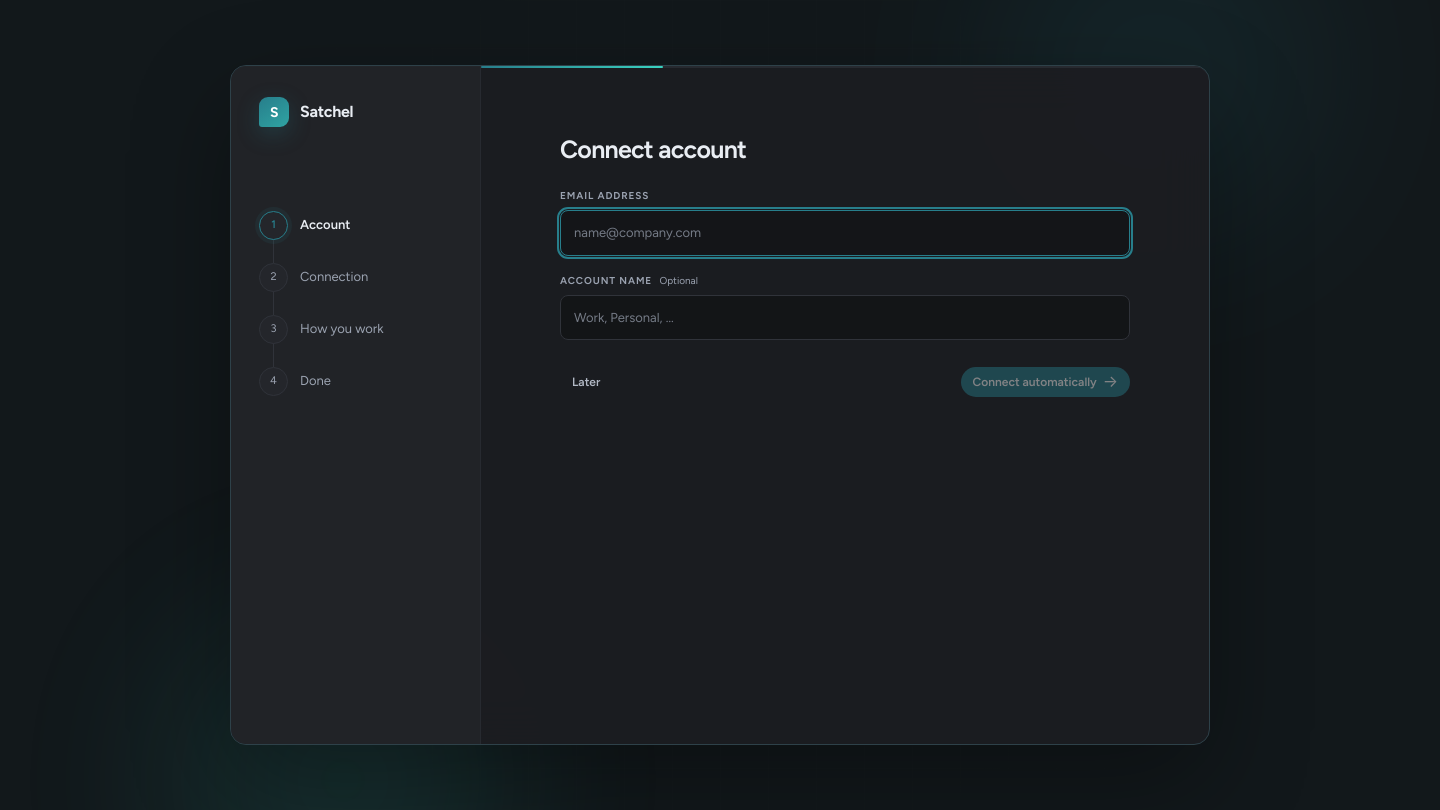
Test: company domains behind Google Workspace or Microsoft 365 › preselects Google sign-in when the MX records point at Google
In the field labelled "Email address": (845, 233) [560,210,1130,256], type "anna@acme.example"
Wait 400 ms
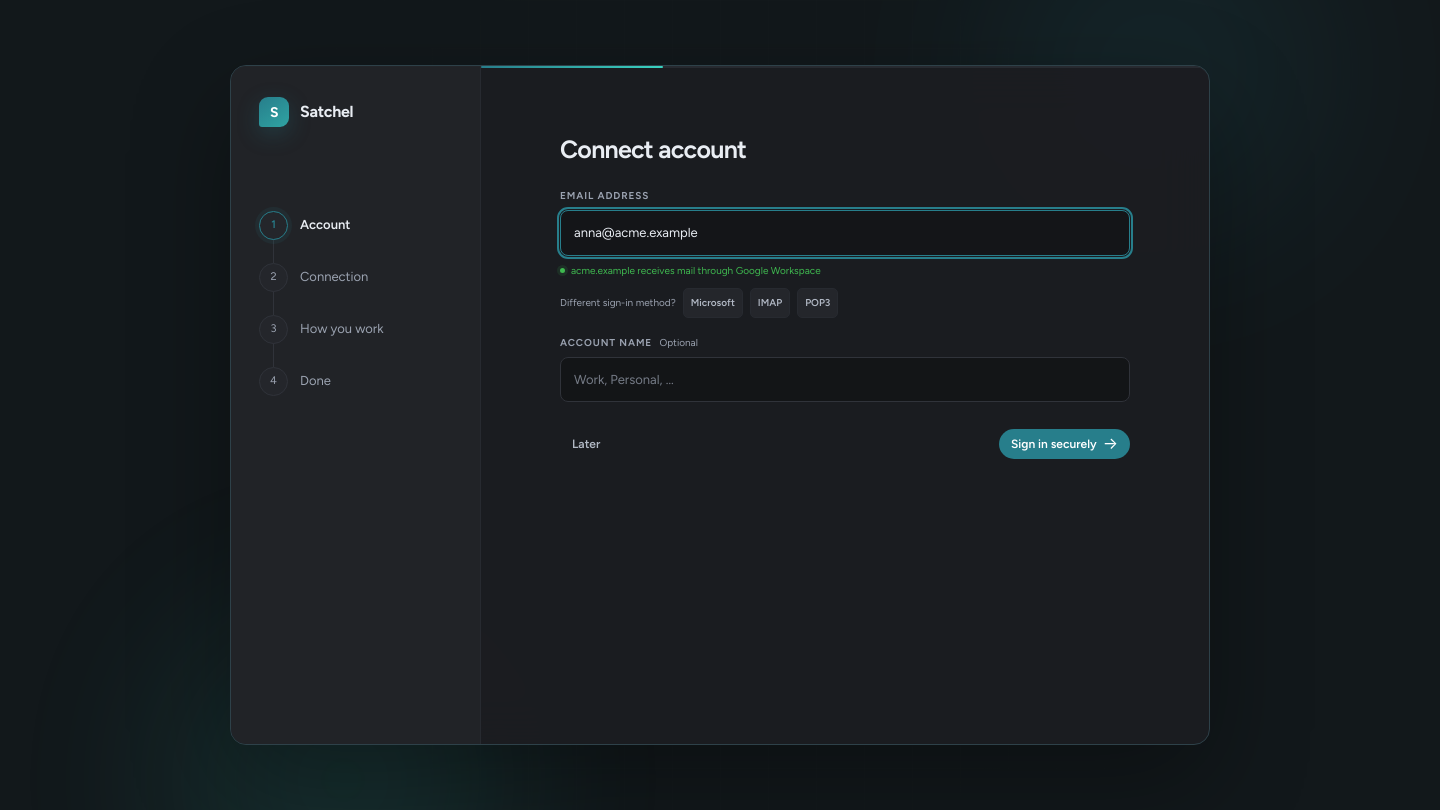
Now the text "acme.example receives mail through Google Workspace" is shown, box [560,264,821,276]
